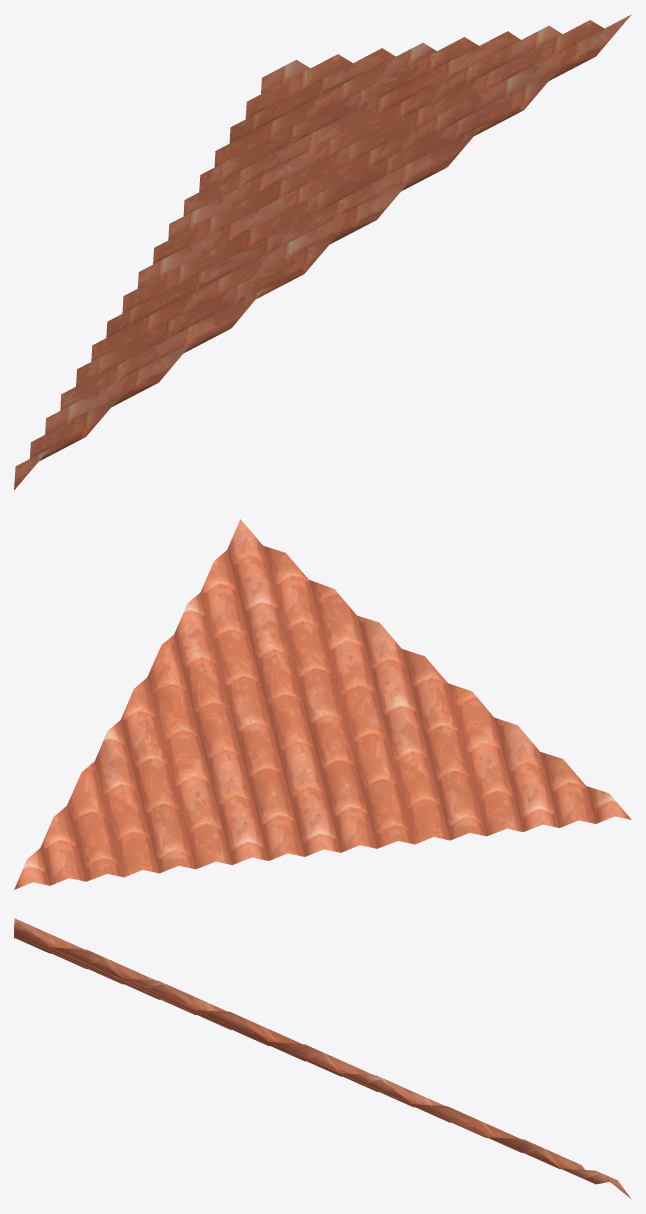
Rendered from RoofTiles_26deg_wedge.fbx.
3 renders of one model, top to bottom at view 1: azimuth 30°, elevation 25°; view 2: azimuth 150°, elevation 25°; view 3: azimuth 270°, elevation 25°, orthographic. The views are drawn at different scales.
Parts seen in each view (by area): view 1: Roof26_Tiles_Wedge; view 2: Roof26_Tiles_Wedge; view 3: Roof26_Tiles_Wedge.
Boxes of the visible parts, x1,y1,x2,y2 form: Roof26_Tiles_Wedge: (14,14,631,490); Roof26_Tiles_Wedge: (14,519,631,889); Roof26_Tiles_Wedge: (14,918,631,1199).
Bounding box in the file's own units: 3 × 3 × 1.51.
